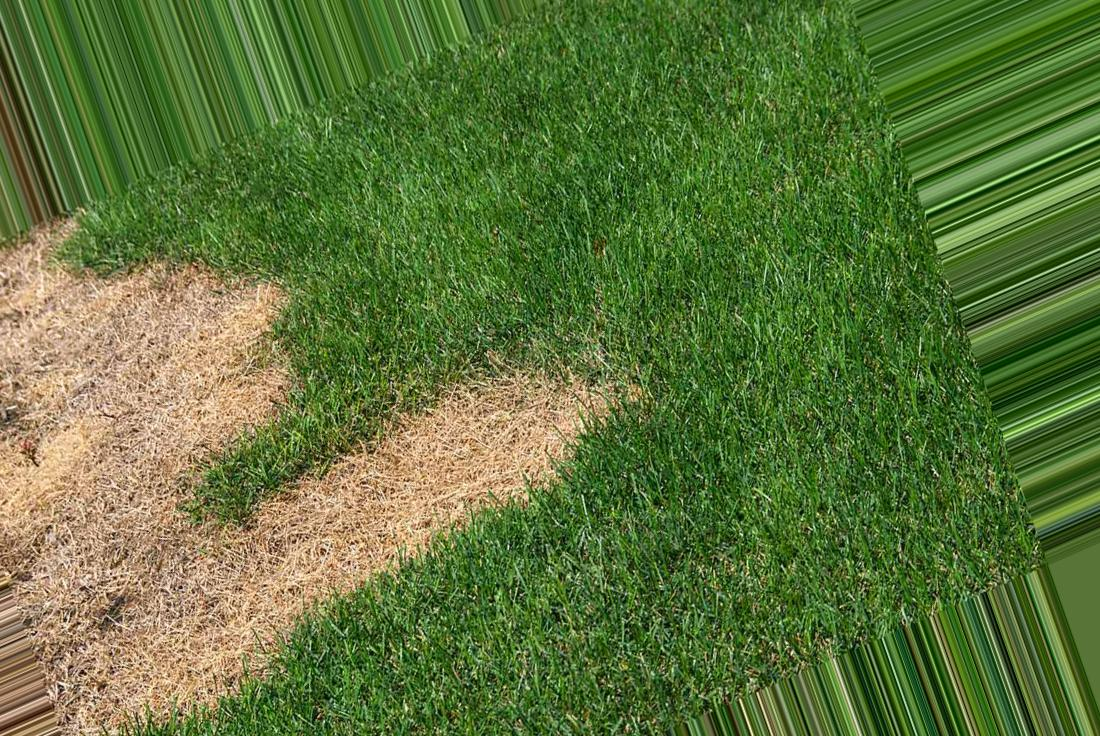patch: (271, 392, 571, 606), (21, 261, 267, 444), (47, 466, 216, 678)
